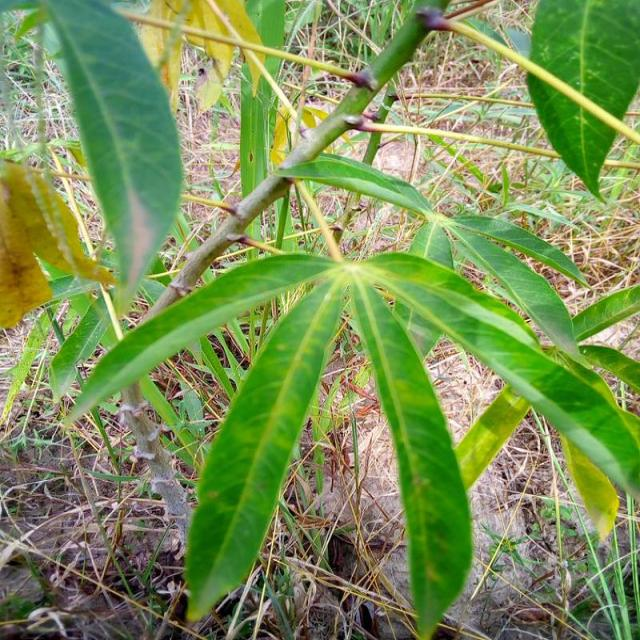cassava leaf: (2, 1, 638, 636), (182, 268, 346, 624), (38, 0, 184, 316), (350, 267, 474, 638), (526, 0, 639, 203), (0, 156, 115, 330)
